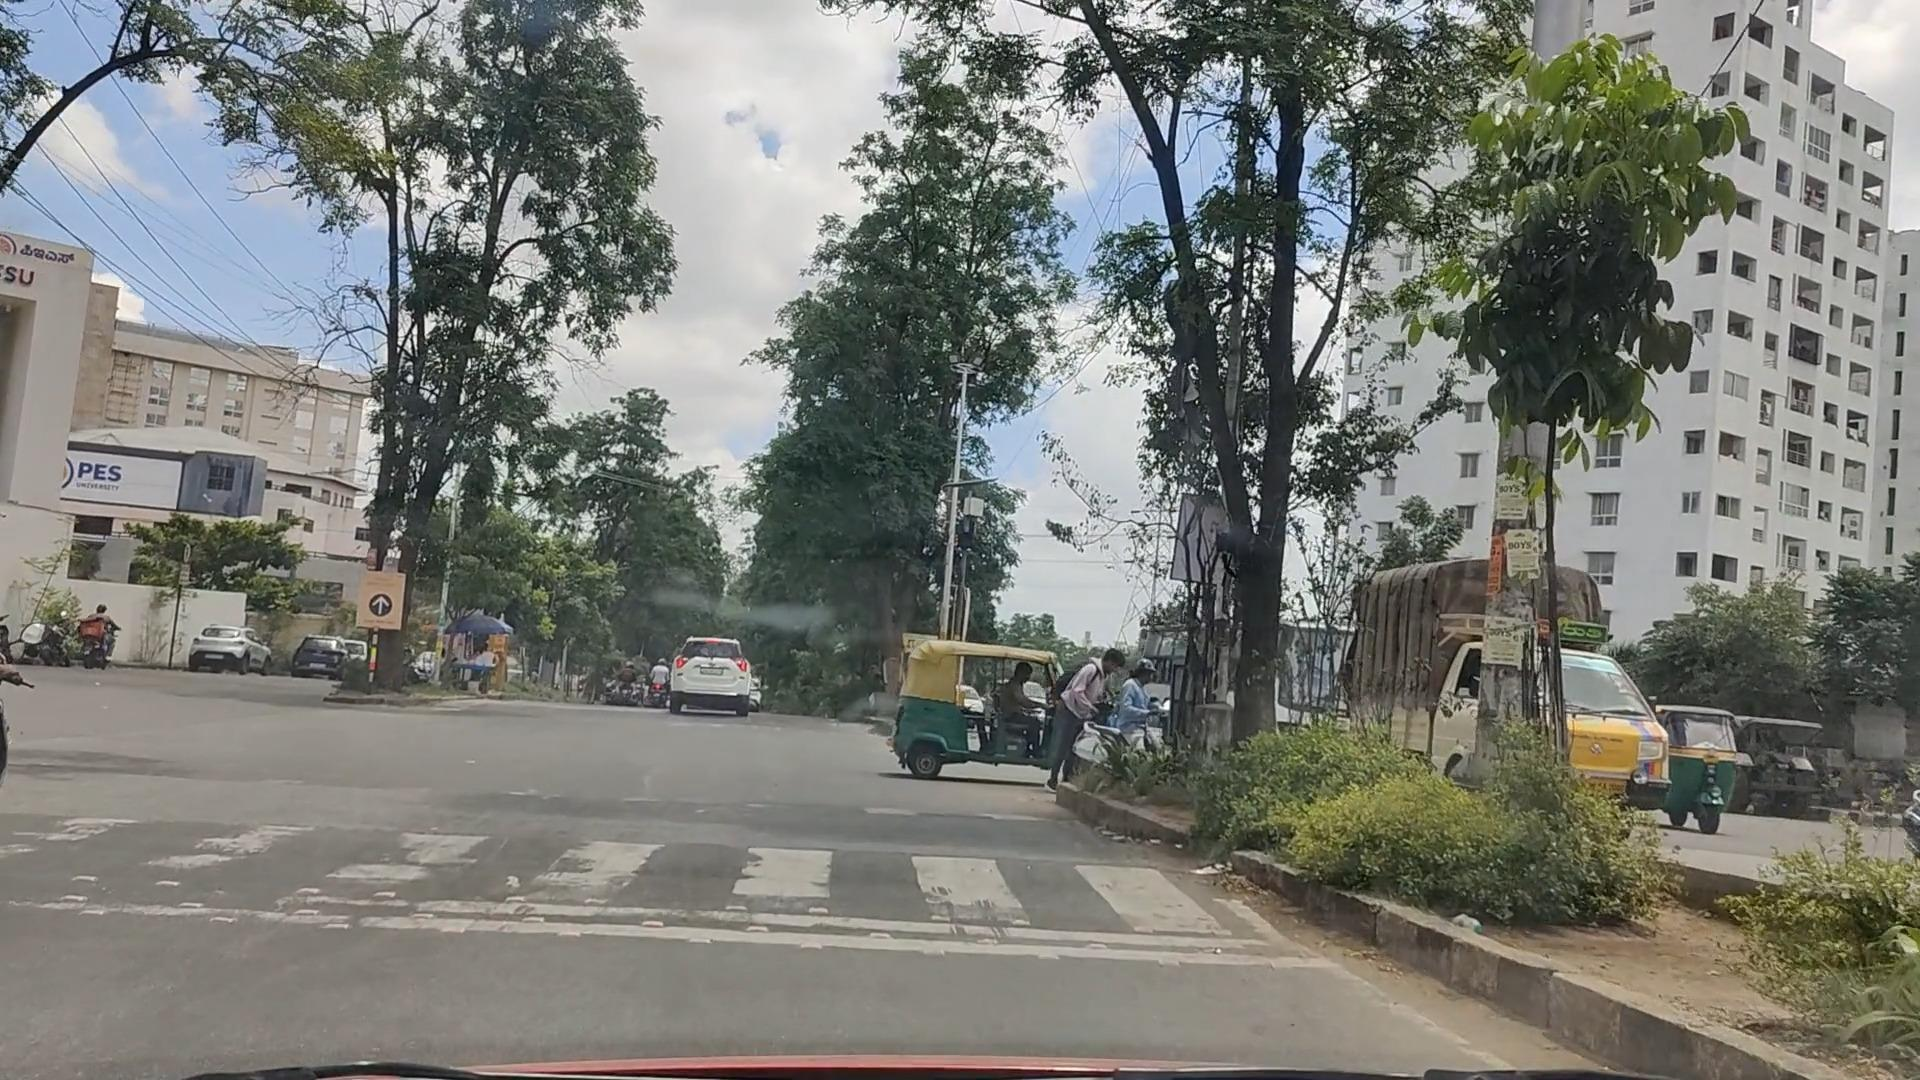LMV: (884, 640, 1073, 767)
SpeedBump: (0, 802, 1188, 936)
